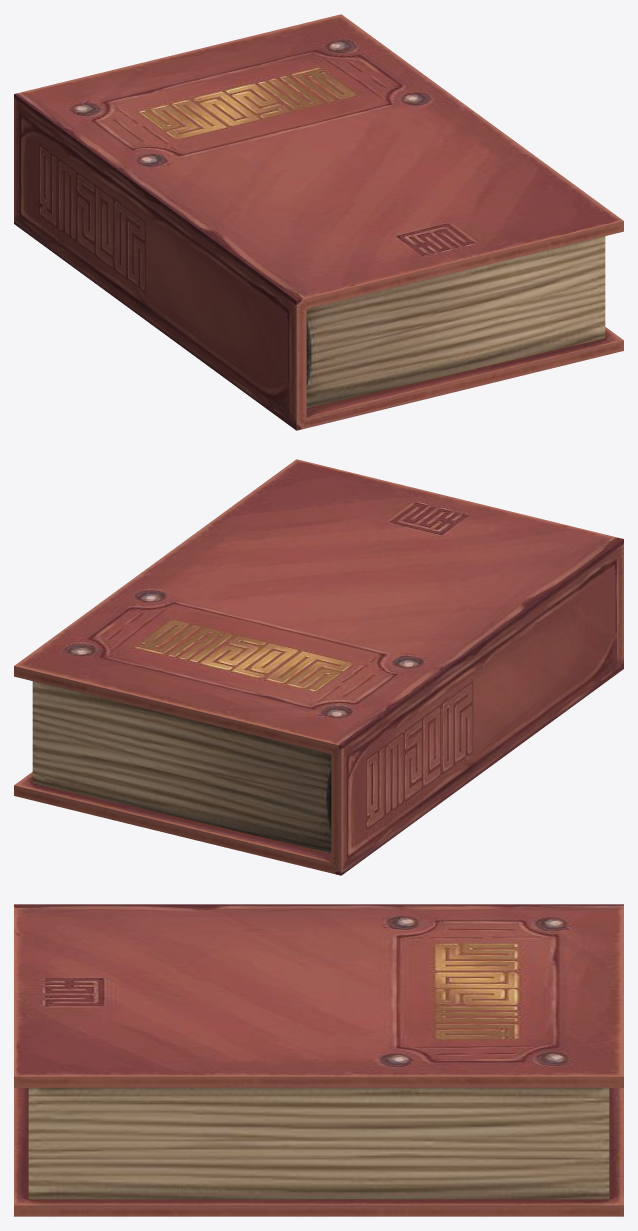
File: book.dae
The picture shows the model from 3 angles, top to bottom: view 1: azimuth 30°, elevation 25°; view 2: azimuth 150°, elevation 25°; view 3: azimuth 270°, elevation 25°; orthographic projection. The views are drawn at different scales.
Visible parts, largest first — view 1: Plane002_default_0; view 2: Plane002_default_0; view 3: Plane002_default_0.
Boxes of the visible parts, x1,y1,x2,y2 form: Plane002_default_0: (14,14,623,430); Plane002_default_0: (14,459,623,875); Plane002_default_0: (14,904,623,1216).
Bounding box in the file's own units: 0.2736 × 0.4089 × 0.1037.
1 material, 1 textured.
